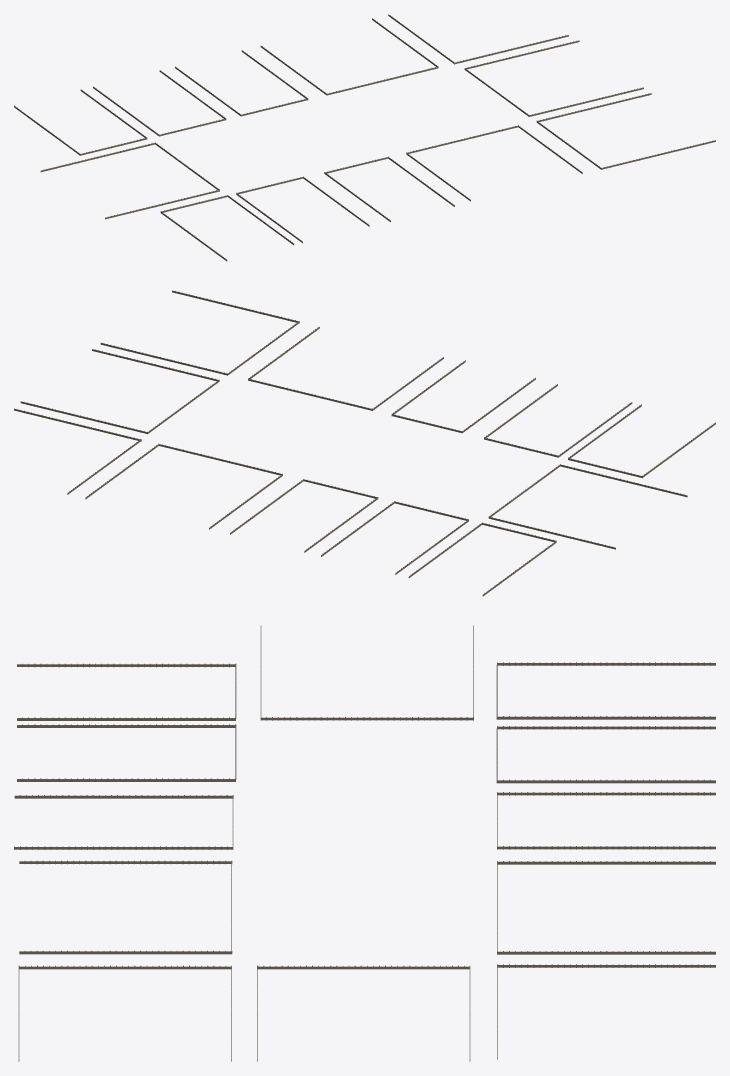
Rendered from walls.glb.
The picture shows the model from 3 angles, top to bottom: view 1: azimuth 30°, elevation 25°; view 2: azimuth 150°, elevation 25°; view 3: azimuth 270°, elevation 25°; orthographic projection. The views are drawn at different scales.
Visible parts, largest first — view 1: walls; view 2: walls; view 3: walls.
Boxes of the visible parts, <box> form: walls: <box>14,14,715,261</box>; walls: <box>14,290,715,596</box>; walls: <box>14,625,715,1061</box>.
Size of the model in its own units: 861 by 3.08 by 589.
Materials: 1 (1 with a texture image).
